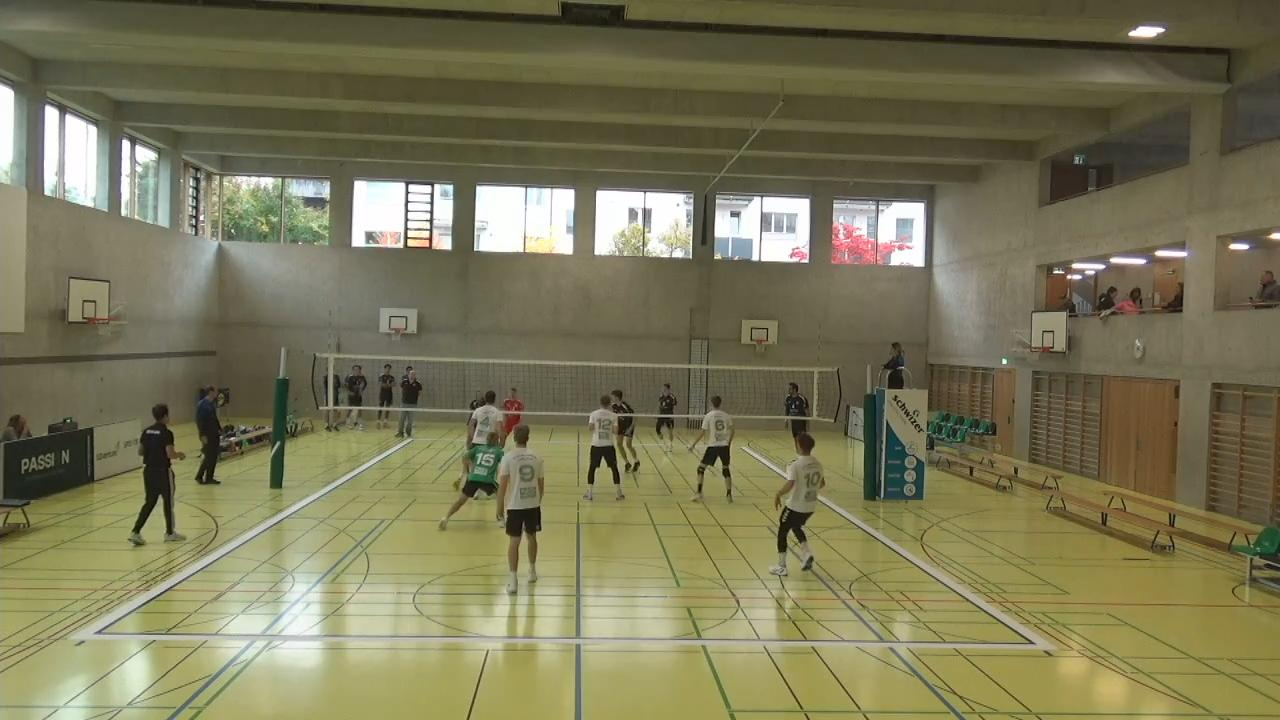Player: (496, 424, 546, 591), (770, 431, 824, 575), (438, 430, 505, 529), (581, 392, 625, 502), (691, 395, 736, 501), (776, 380, 813, 467), (468, 391, 499, 454), (652, 382, 679, 454), (613, 390, 639, 464), (499, 388, 526, 447)
